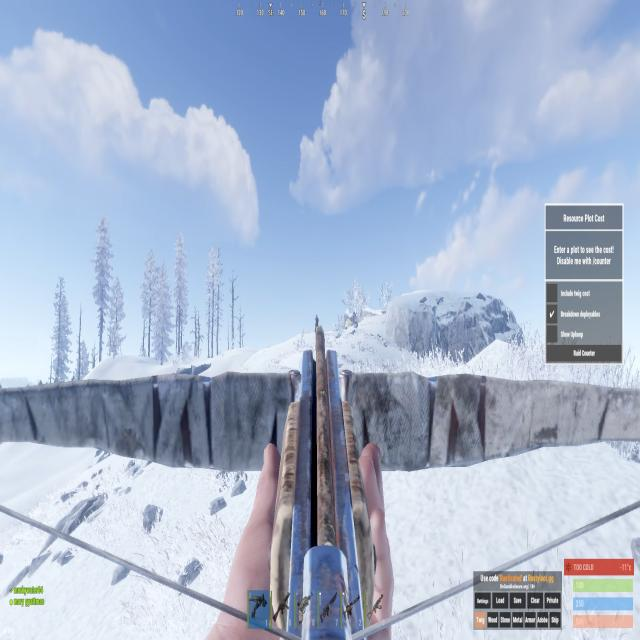Player: (315, 314, 319, 333)
